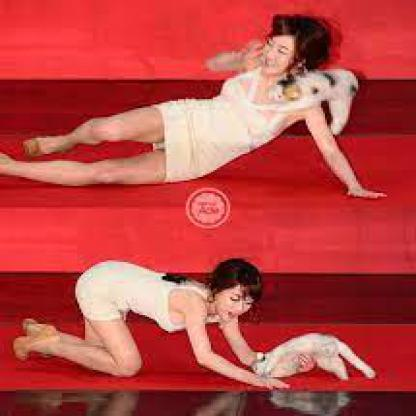Fall_Down: (1, 17, 392, 201)
